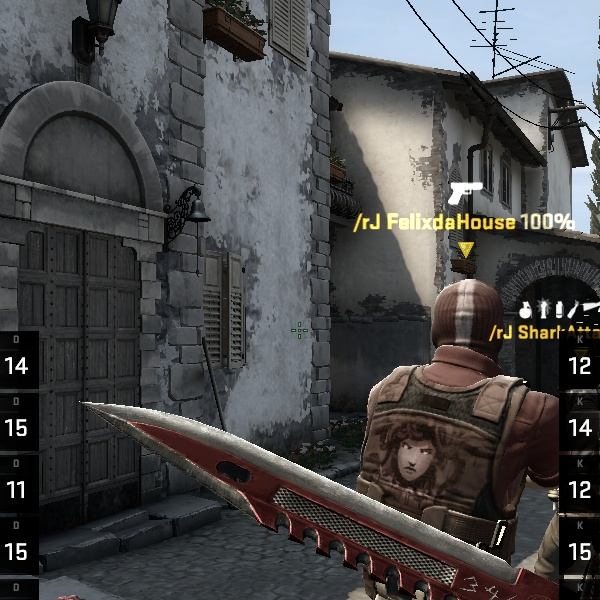t_head: (308, 271, 600, 555)
